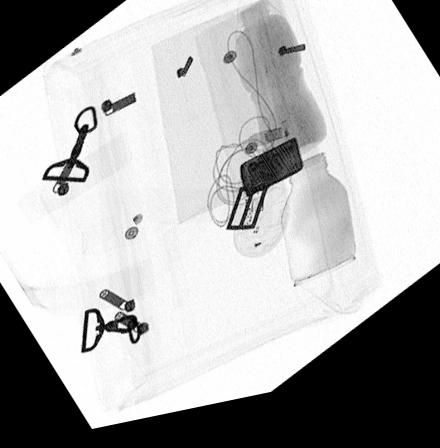Lighter: (239, 147, 303, 206)
